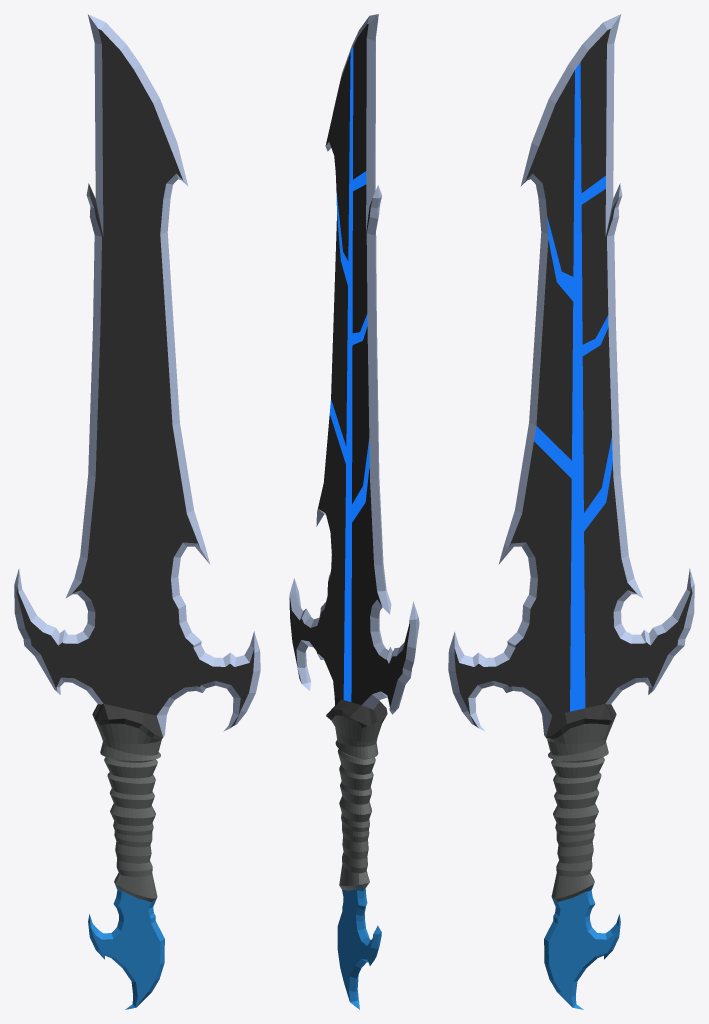
Rendered from blue_sword.glb.
3 renders of one model, left to right at view 1: azimuth 90°, elevation 25°; view 2: azimuth 210°, elevation 25°; view 3: azimuth 270°, elevation 25°, orthographic.
Parts seen in each view (by area): view 1: Plane; view 2: Plane; view 3: Plane.
Boxes of the visible parts, x1,y1,x2,y2 form: Plane: (14,14,260,1009); Plane: (289,14,419,1009); Plane: (448,14,694,1009).
Size of the model in its own units: 0.185 by 4.84 by 1.09.
